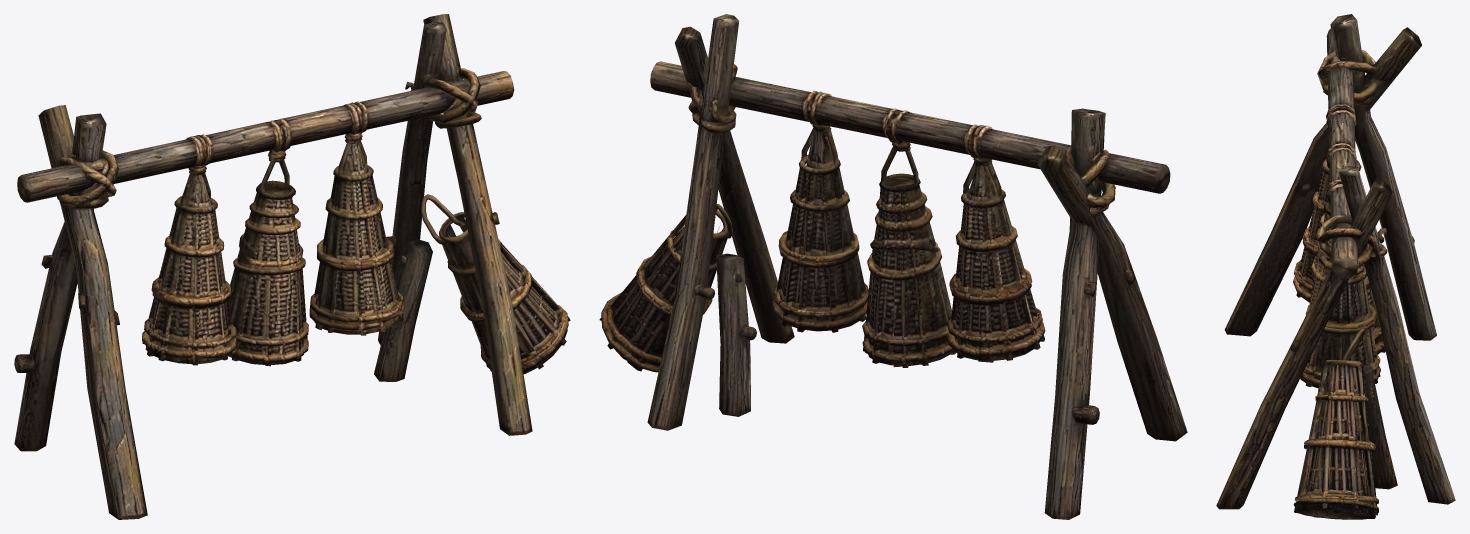
File: act1-a01-6-eel-trap-rack.glb
The picture shows the model from 3 angles, left to right: view 1: azimuth 30°, elevation 25°; view 2: azimuth 150°, elevation 25°; view 3: azimuth 270°, elevation 25°; orthographic projection. The views are drawn at different scales.
Visible parts, largest first — view 1: act1-a01-6-eel-trap-rack; view 2: act1-a01-6-eel-trap-rack; view 3: act1-a01-6-eel-trap-rack.
Part boxes in pixels (x1,y1,x2,y2): act1-a01-6-eel-trap-rack: (14, 14, 570, 519); act1-a01-6-eel-trap-rack: (599, 14, 1187, 519); act1-a01-6-eel-trap-rack: (1216, 14, 1455, 519).
Size of the model in its own units: 4.7 by 3 by 1.98.
1 material, 1 textured.
